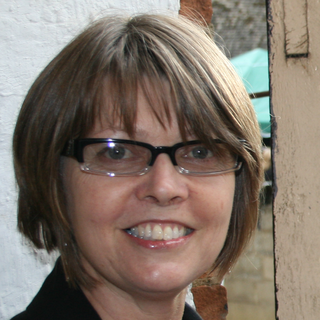eye: (92, 142, 140, 168), (178, 141, 219, 166)
